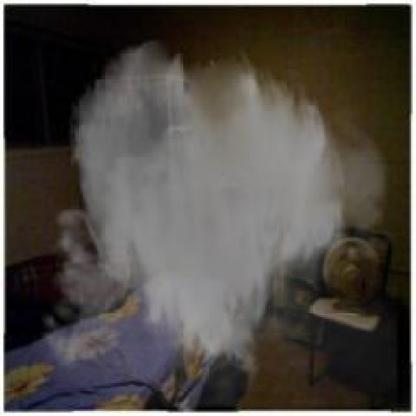Smoke: (29, 38, 397, 406)
